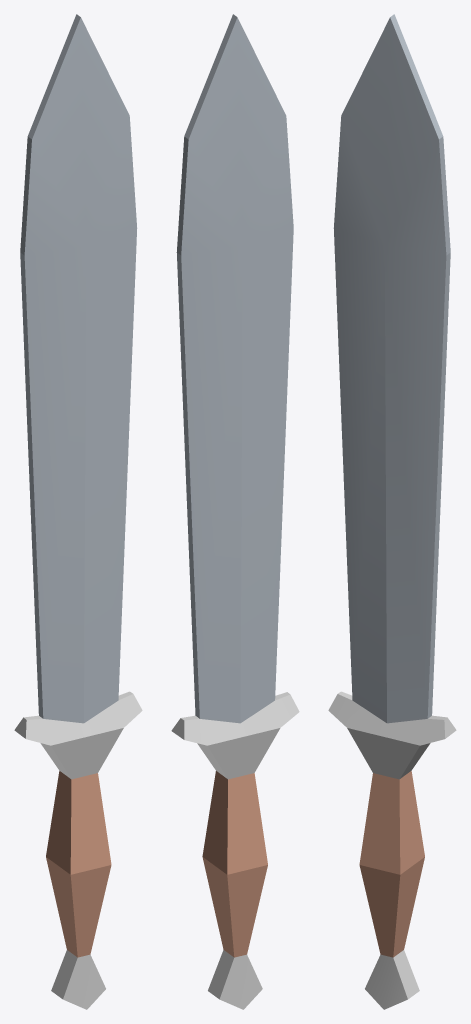
The model's file is sword.fbx.
3 views of the same model, side by side, from view 1: azimuth 30°, elevation 25°; view 2: azimuth 210°, elevation 25°; view 3: azimuth 330°, elevation 25° (orthographic).
Parts seen in each view (by area): view 1: Sword; view 2: Sword; view 3: Sword.
Part boxes in pixels (x1,y1,x2,y2): Sword: (14, 14, 142, 1009); Sword: (171, 14, 299, 1009); Sword: (328, 14, 456, 1009).
Bounding box in the file's own units: 12.01 × 96.96 × 4.41.
1 material, 1 textured.
